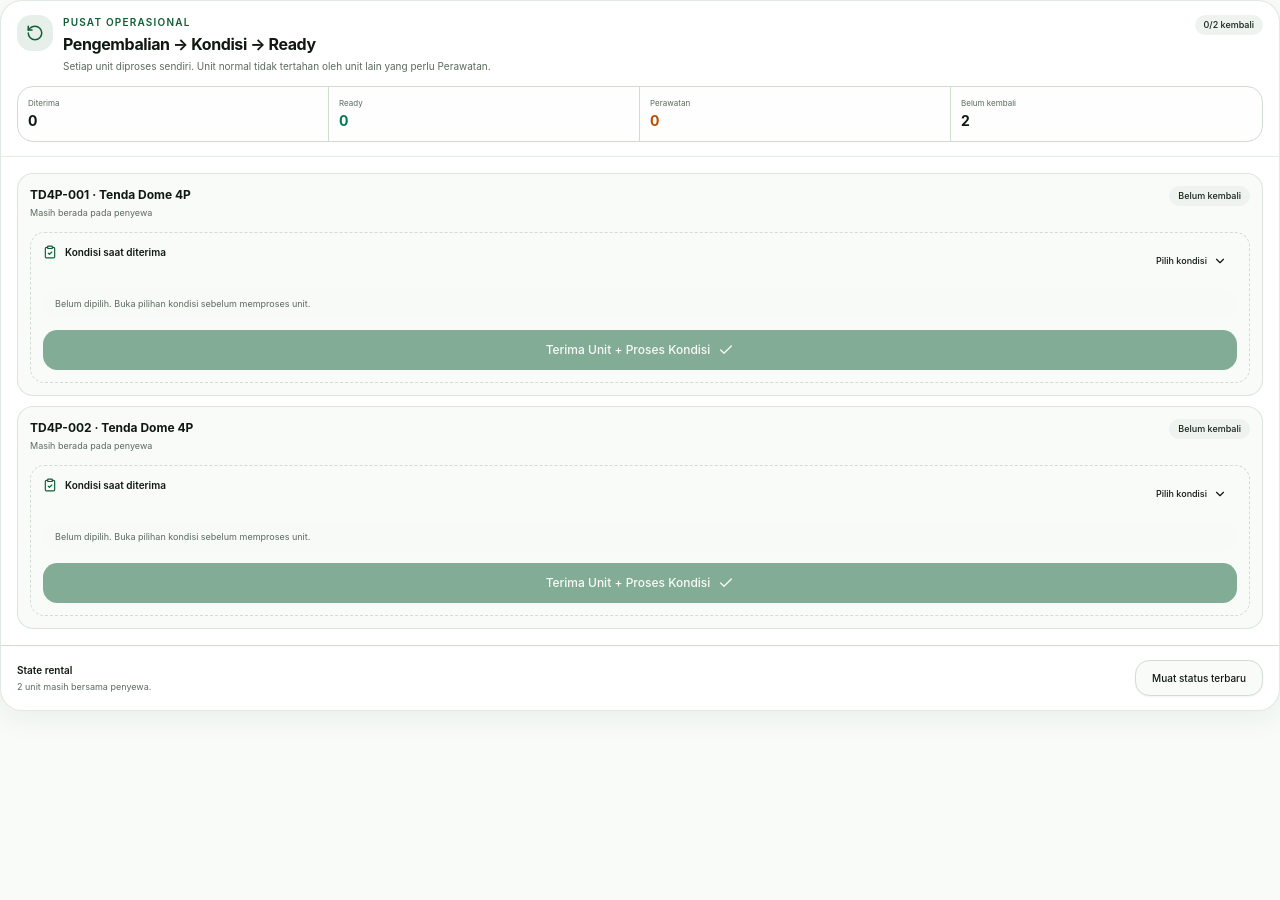
Scenario: Rental operational workspace › requires explicit condition before processing a unit
The width and height of the screenshot is (1280, 900).
Expected: the text "TD4P-001 · Tenda Dome 4P" is shown, [30,186,191,204]
Expected: the button "Terima Unit + Proses Kondisi" below "TD4P-001 · Tenda Dome 4P" is disabled, [43,330,1237,370]
Click the 1st button "Pilih kondisi": click(1192, 260) [1146,244,1237,276]
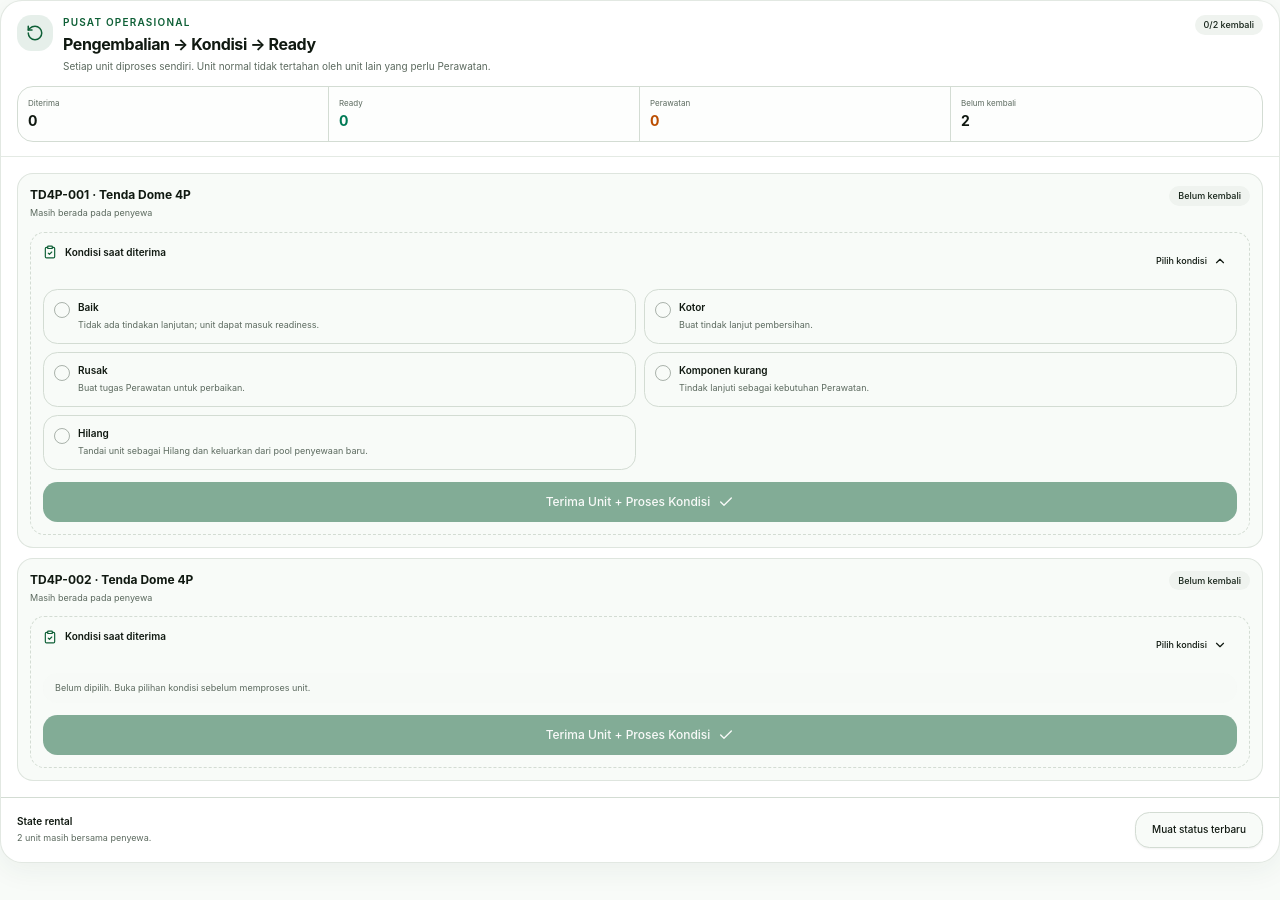
Expected: the button "Terima Unit + Proses Kondisi" below "TD4P-001 · Tenda Dome 4P" is disabled, [43,482,1237,522]
Now the number of radio buttons is 5, box [43,288,636,344]; [644,288,1237,344]; [43,352,636,406]; [644,352,1237,406]; [43,414,636,470]
